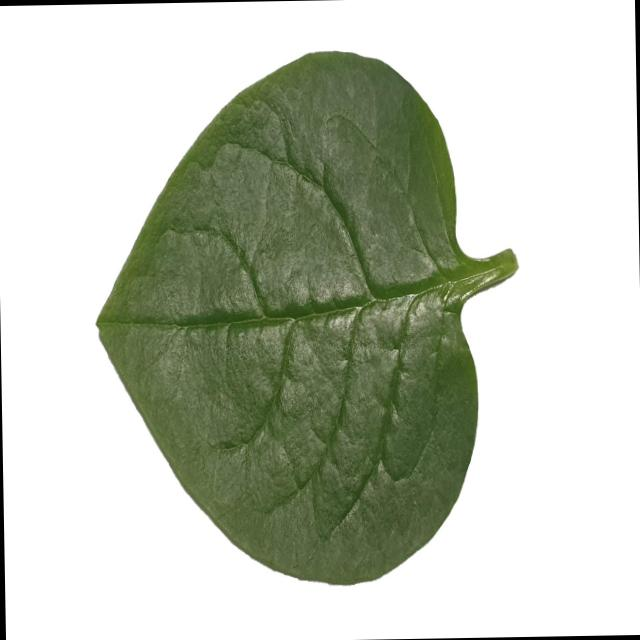Medicinal-Basale: (90, 44, 520, 591)
